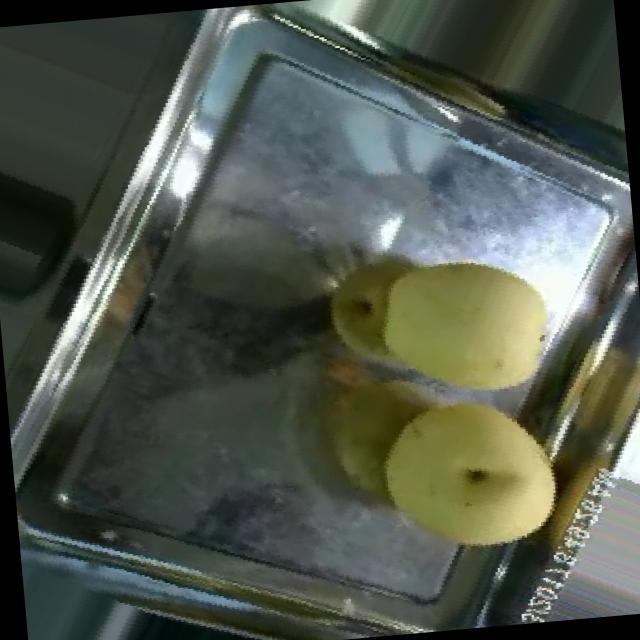Fruit: (344, 366, 590, 594), (346, 231, 575, 431)
